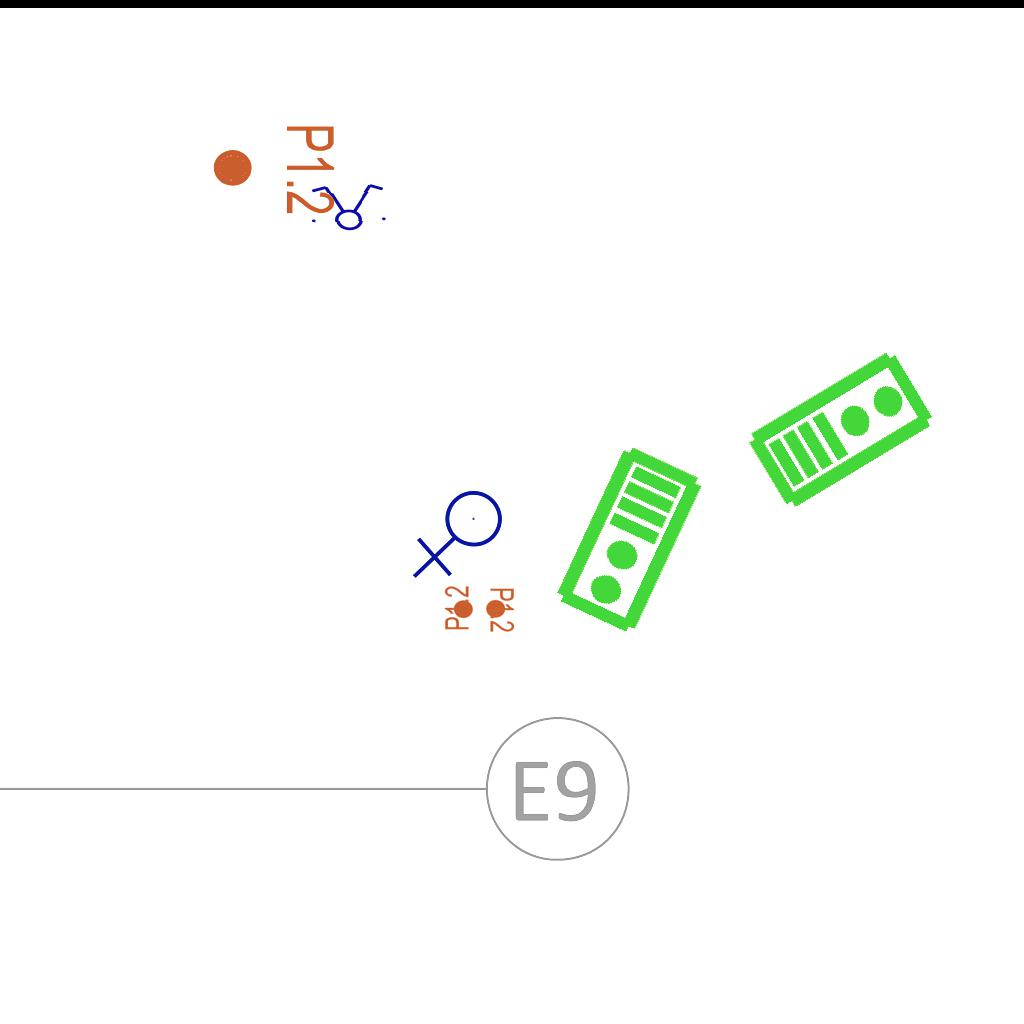Downlight_LED_Einbauleuchten_Flur: (210, 123, 338, 216), (443, 585, 507, 631), (452, 587, 516, 633)
Elektroanschluss_allgemein_230V_Geraeteanschlussdose_230V: (412, 489, 511, 583)
Gegensprechanlage_mit_Video: (740, 341, 941, 515), (550, 441, 711, 641)
Serienschalter: (305, 181, 391, 233)
